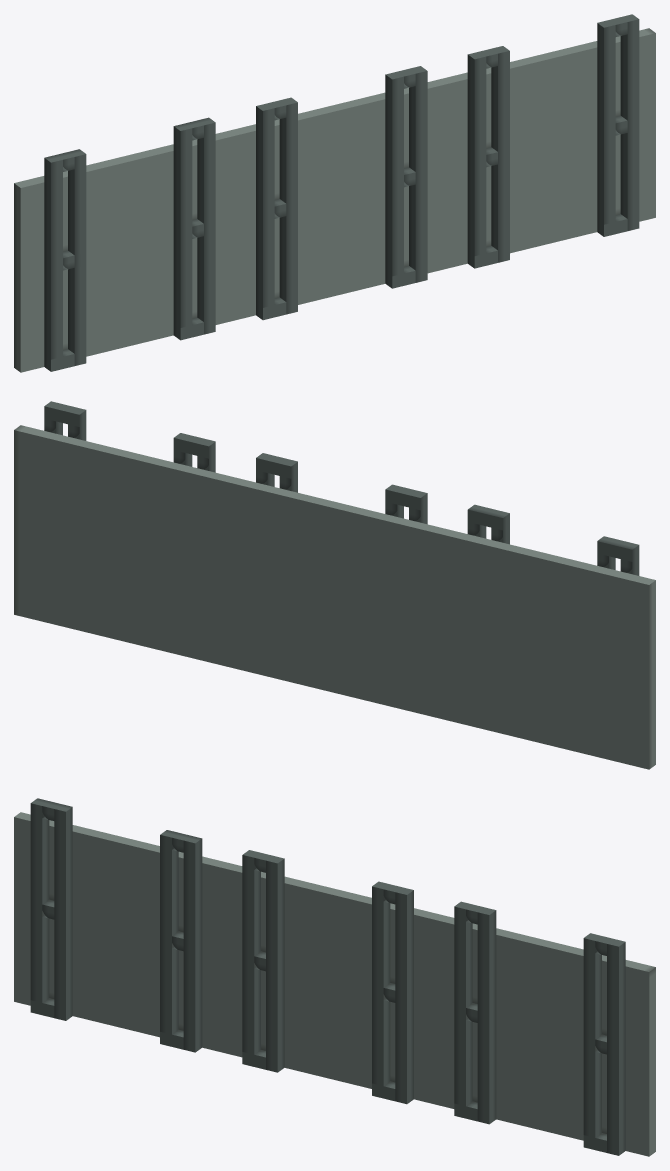
Rendered from fence3_po_3.dae.
3 renders of one model, top to bottom at view 1: azimuth 30°, elevation 25°; view 2: azimuth 150°, elevation 25°; view 3: azimuth 330°, elevation 25°, orthographic.
Parts seen in each view (by area): view 1: Content; view 2: Content; view 3: Content.
Boxes of the visible parts, x1,y1,x2,y2 form: Content: (14,14,655,372); Content: (14,401,655,769); Content: (14,798,655,1156).
Bounding box in the file's own units: 54 × 17 × 2.
Materials: 1 (1 with a texture image).
